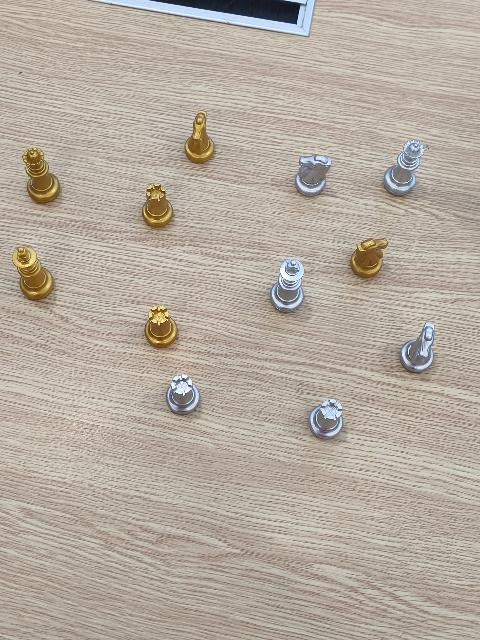black_king: (12, 245, 55, 302)
black_knight: (349, 235, 389, 281), (184, 110, 216, 165)
black_queen: (21, 147, 61, 206)
black_rook: (143, 304, 179, 351), (141, 183, 174, 230)
white_king: (269, 257, 308, 315)
white_knight: (399, 320, 438, 376), (293, 152, 335, 199)
white_queen: (382, 139, 428, 198)
white_rook: (307, 397, 346, 441), (165, 373, 202, 417)
